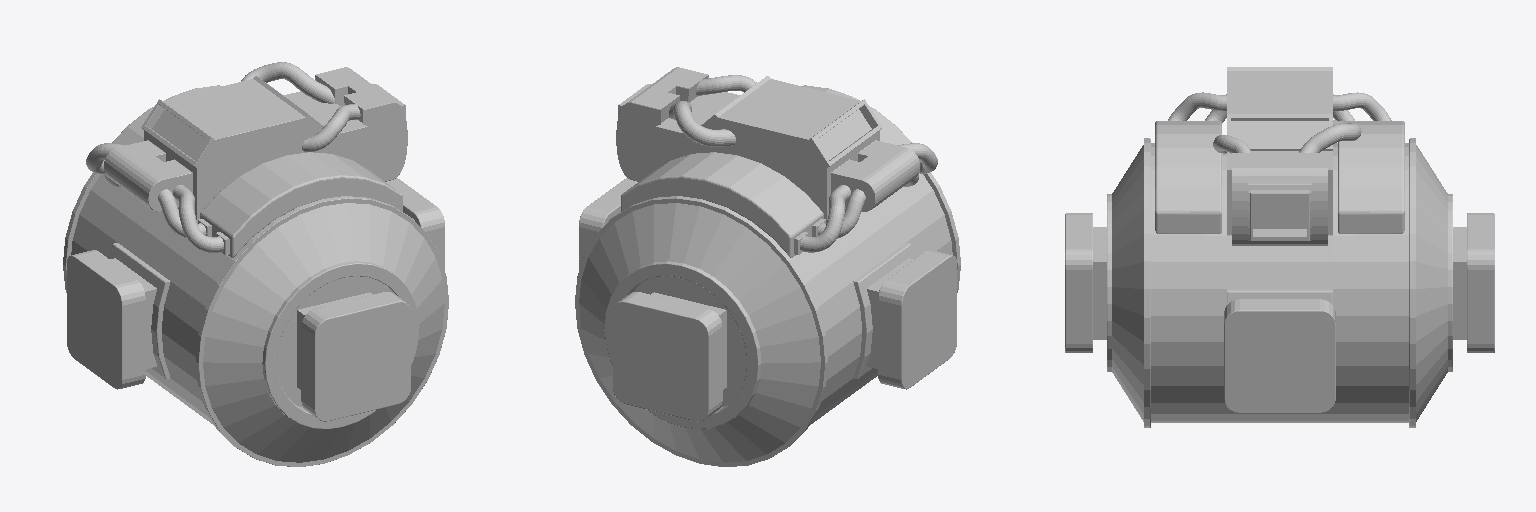
Rendered from big_beam.obj.
3 views of the same model, side by side, from view 1: azimuth 30°, elevation 25°; view 2: azimuth 150°, elevation 25°; view 3: azimuth 270°, elevation 25° (orthographic).
Parts seen in each view (by area): view 1: Cylinder.003; view 2: Cylinder.003; view 3: Cylinder.003.
Part boxes in pixels (x1,y1,x2,y2): Cylinder.003: (63,62,448,466); Cylinder.003: (575,67,960,466); Cylinder.003: (1065,67,1494,427).
Bounding box in the file's own units: 1.34 × 1.25 × 1.54.